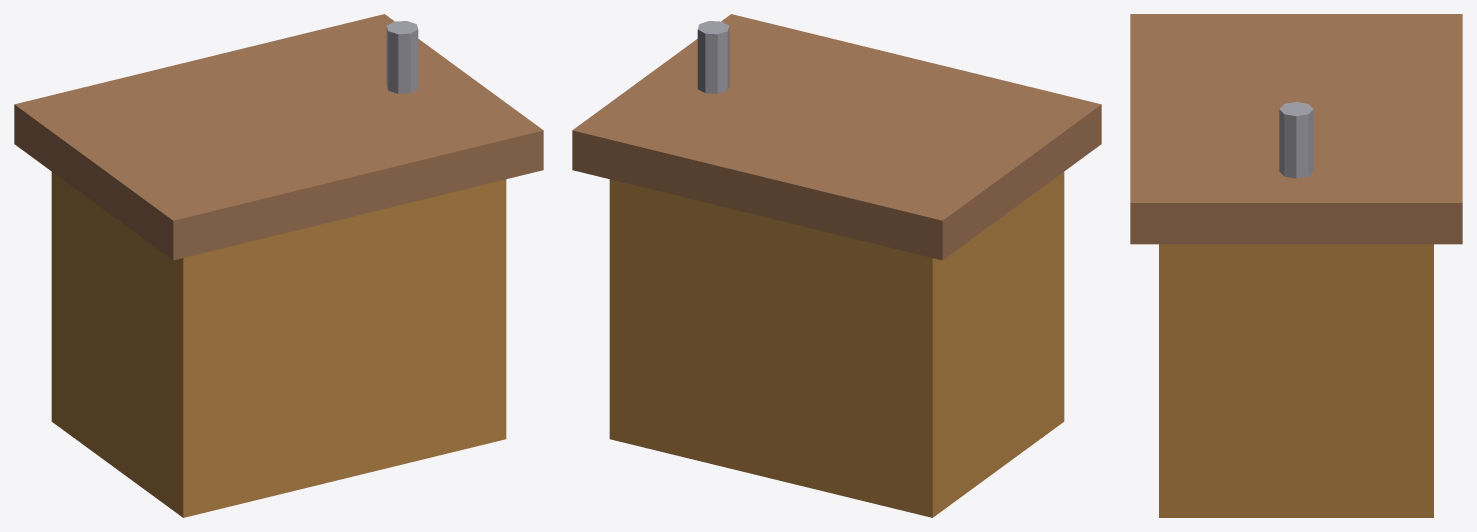
Rendered from refill_station.glb.
The picture shows the model from 3 angles, left to right: view 1: azimuth 30°, elevation 25°; view 2: azimuth 150°, elevation 25°; view 3: azimuth 270°, elevation 25°; orthographic projection. The views are drawn at different scales.
Parts seen in each view (by area): view 1: RefillStation; view 2: RefillStation; view 3: RefillStation.
Part boxes in pixels (x1,y1,x2,y2): RefillStation: (14, 14, 543, 517); RefillStation: (572, 14, 1101, 517); RefillStation: (1130, 14, 1462, 517).
Bounding box in the file's own units: 0.78 × 0.75 × 0.58.
